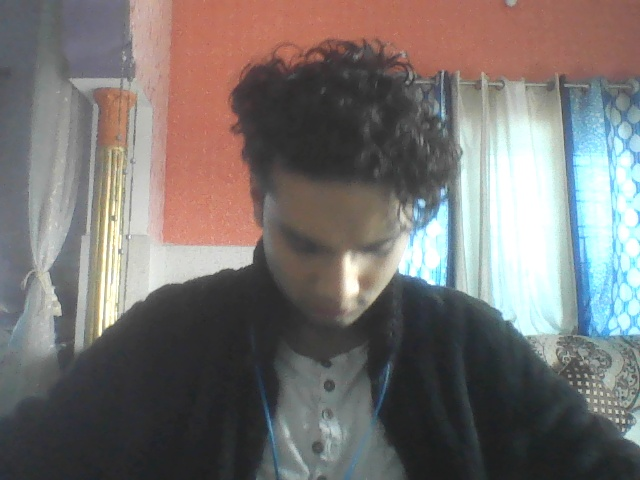real: (244, 99, 418, 345)
